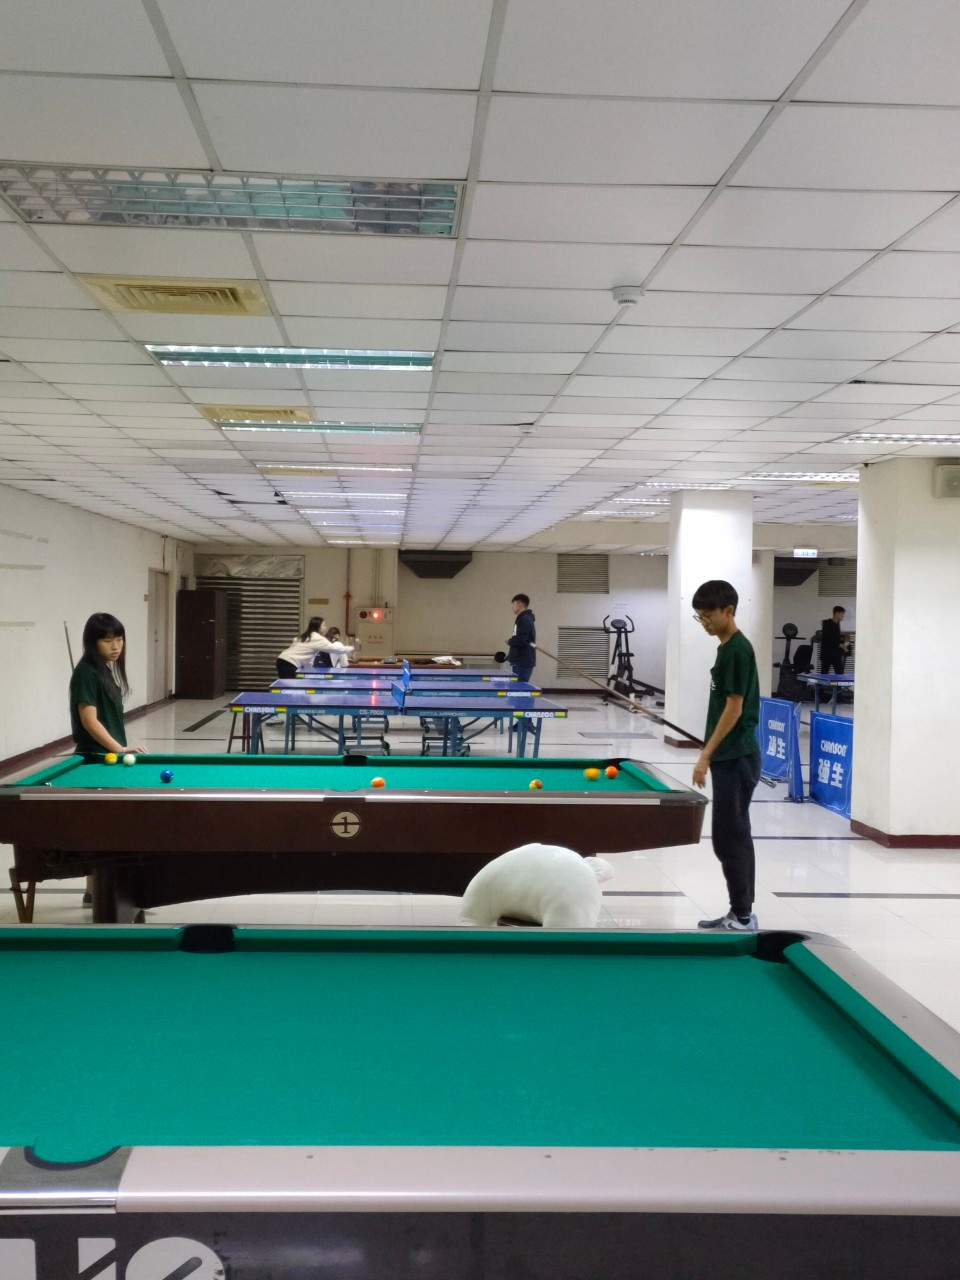people: (691, 576, 783, 925), (56, 602, 152, 776), (493, 580, 544, 692), (813, 604, 856, 727), (272, 619, 340, 686), (325, 623, 364, 684)
